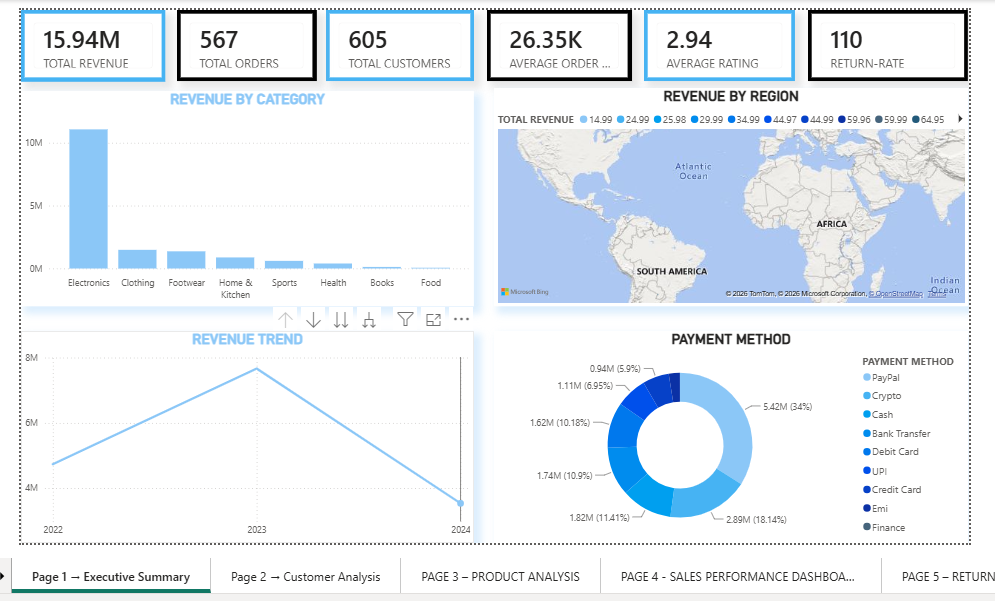

What the dashboard file says about the page in this screenshot:
{"tool":"powerbi","page":{"name":"Page 1 → Executive Summary","canvas":[1280,720],"ordinal":0},"visuals":[{"type":"cardVisual","fields":{"Data":["Sum(Fresh Sales Data.TOTAL REVENUE)"]},"box":[0,0,195.5,97],"z":0},{"type":"cardVisual","fields":{"Data":["CountNonNull(Fresh Sales Data.CUSTOMER ID)"]},"box":[411.8,0,200.2,96.5],"z":1000},{"type":"cardVisual","fields":{"Data":["Avg(Fresh Sales Data.RATING)"]},"box":[842.4,0,204.5,96.5],"z":2000},{"type":"cardVisual","fields":{"Data":["Count(Fresh Sales Data.CUSTOMER ID)"]},"box":[210.2,0,188.6,96.5],"z":3000},{"type":"cardVisual","fields":{"Data":["Fresh Sales Data.ORDER VALUE"]},"box":[629.3,0,195.8,96.5],"z":4000},{"type":"cardVisual","fields":{"Data":["Fresh Sales Data.RETURN-RATE"]},"box":[1064.2,0,216,96.5],"z":5000},{"type":"columnChart","title":" REVENUE BY CATEGORY","fields":{"Category":["Fresh Sales Data.CATEGORY"],"Y":["Sum(Fresh Sales Data.TOTAL REVENUE)"]},"box":[0,109.4,612,290.9],"z":6000},{"type":"filledMap","title":"REVENUE BY REGION ","fields":{"Category":["Fresh Sales Data.REGION"],"Series":["Fresh Sales Data.TOTAL REVENUE"]},"box":[639.4,105.1,640.8,295.2],"z":7000},{"type":"lineChart","title":" REVENUE TREND","fields":{"Category":["Fresh Sales Data.PURCHASE DATE.Variation.Date Hierarchy.Year","Fresh Sales Data.PURCHASE DATE.Variation.Date Hierarchy.Quarter","Fresh Sales Data.PURCHASE DATE.Variation.Date Hierarchy.Month","Fresh Sales Data.PURCHASE DATE.Variation.Date Hierarchy.Day"],"Y":["Sum(Fresh Sales Data.TOTAL REVENUE)"]},"box":[0,433.4,612,286.6],"z":8000},{"type":"donutChart","title":" PAYMENT METHOD","fields":{"Category":["Fresh Sales Data.PAYMENT METHOD"],"Y":["Sum(Fresh Sales Data.TOTAL REVENUE)"]},"box":[639.4,433.4,640.8,286.6],"z":9000}]}

Visuals, with their boxes on the page's 1280x720 design canvas (x1, y1, x2, y2). These are canvas units, not pixel positions in the 995x601 screenshot, which may show the page scaled, cropped or inside an application window:
cardVisual - Sum(Fresh Sales Data.TOTAL REVENUE): select_region(0, 0, 196, 97)
cardVisual - CountNonNull(Fresh Sales Data.CUSTOMER ID): select_region(412, 0, 612, 96)
cardVisual - Avg(Fresh Sales Data.RATING): select_region(842, 0, 1047, 96)
cardVisual - Count(Fresh Sales Data.CUSTOMER ID): select_region(210, 0, 399, 96)
cardVisual - Fresh Sales Data.ORDER VALUE: select_region(629, 0, 825, 96)
cardVisual - Fresh Sales Data.RETURN-RATE: select_region(1064, 0, 1280, 96)
" REVENUE BY CATEGORY" columnChart: select_region(0, 109, 612, 400)
"REVENUE BY REGION " filledMap: select_region(639, 105, 1280, 400)
" REVENUE TREND" lineChart: select_region(0, 433, 612, 720)
" PAYMENT METHOD" donutChart: select_region(639, 433, 1280, 720)
